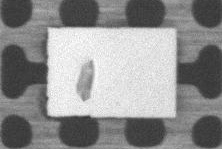DIE_INK: (75, 60, 96, 100)
